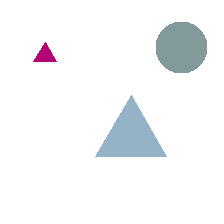circle: (156, 22, 206, 72)
triangle: (95, 95, 166, 156), (33, 42, 56, 61)
